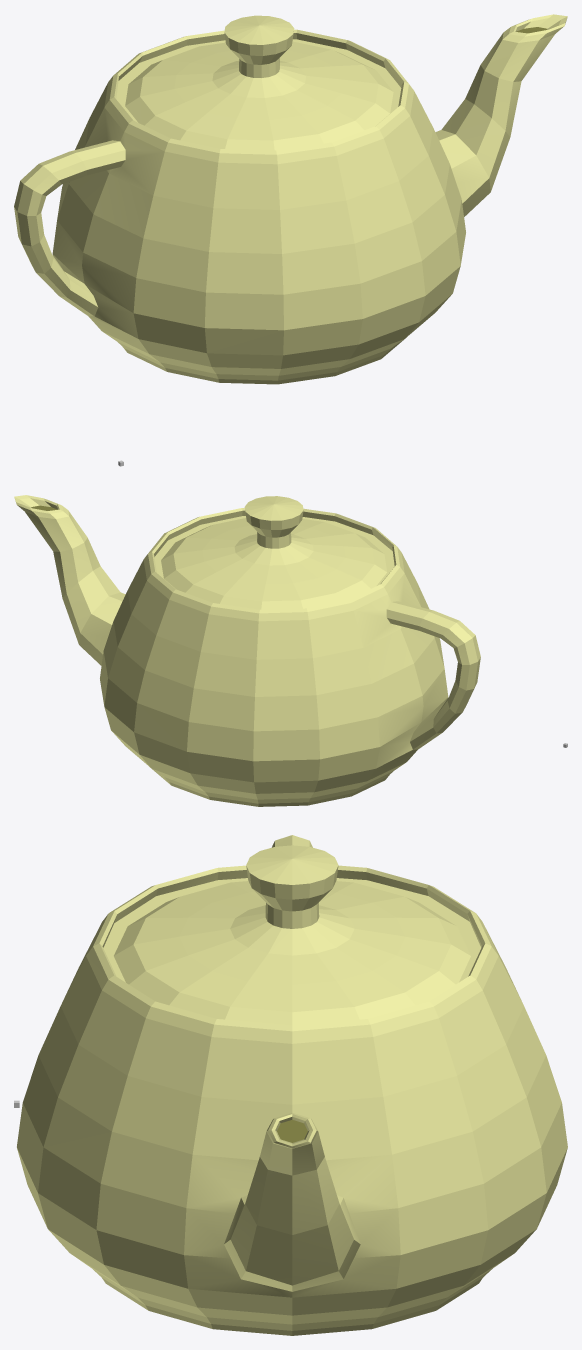
Rendered from Teapot.gltf.
The picture shows the model from 3 angles, top to bottom: view 1: azimuth 30°, elevation 25°; view 2: azimuth 150°, elevation 25°; view 3: azimuth 270°, elevation 25°; orthographic projection. The views are drawn at different scales.
Parts seen in each view (by area): view 1: SketchUp; view 2: SketchUp; view 3: SketchUp.
Part boxes in pixels (bbox=[...]): SketchUp: bbox=[14, 14, 567, 384]; SketchUp: bbox=[14, 495, 480, 806]; SketchUp: bbox=[17, 835, 567, 1335].
Bounding box in the file's own units: 307 × 162 × 201.
